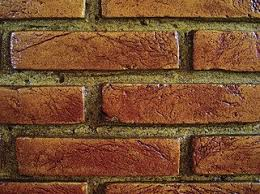brick: (11, 136, 181, 178), (99, 81, 260, 124), (10, 30, 180, 70), (1, 83, 86, 126), (99, 1, 260, 21), (193, 29, 260, 73), (190, 136, 260, 175), (102, 181, 260, 193), (1, 1, 88, 20), (2, 182, 89, 194)
